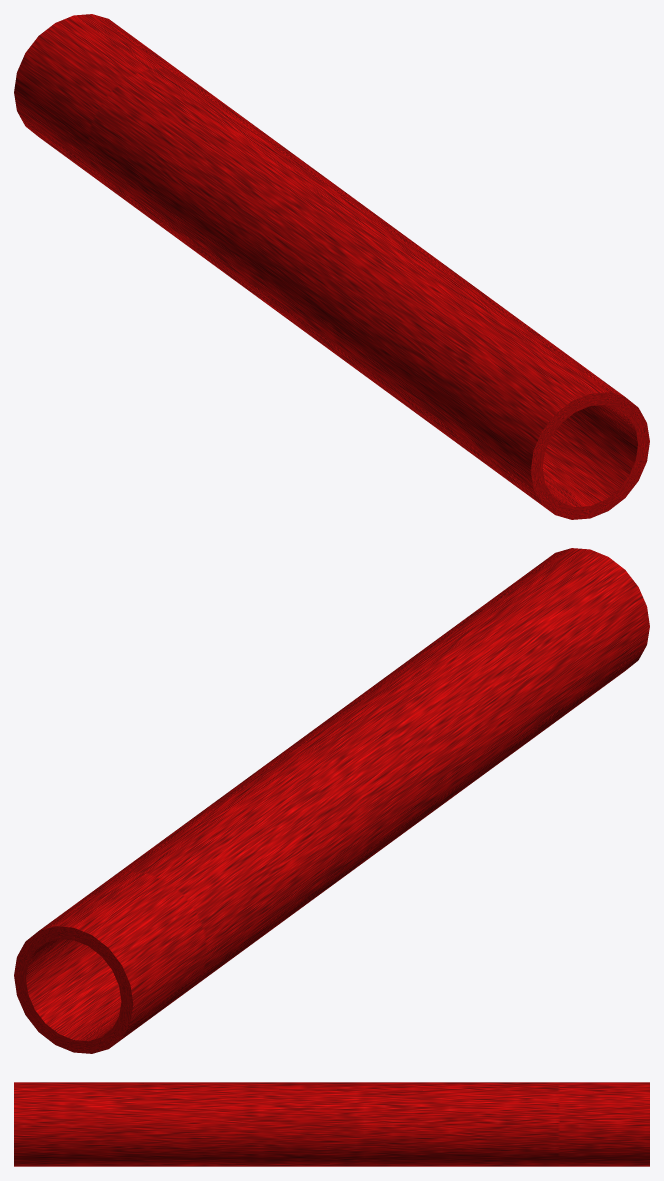
The model's file is straight.fbx.
The picture shows the model from 3 angles, top to bottom: view 1: azimuth 30°, elevation 25°; view 2: azimuth 150°, elevation 25°; view 3: azimuth 270°, elevation 25°; orthographic projection. The views are drawn at different scales.
Parts seen in each view (by area): view 1: pPipe1; view 2: pPipe1; view 3: pPipe1.
Part boxes in pixels (x1,y1,x2,y2): pPipe1: (14, 14, 649, 519); pPipe1: (14, 548, 649, 1053); pPipe1: (14, 1082, 649, 1166).
Bounding box in the file's own units: 10 × 10 × 75.
1 material, 1 textured.
